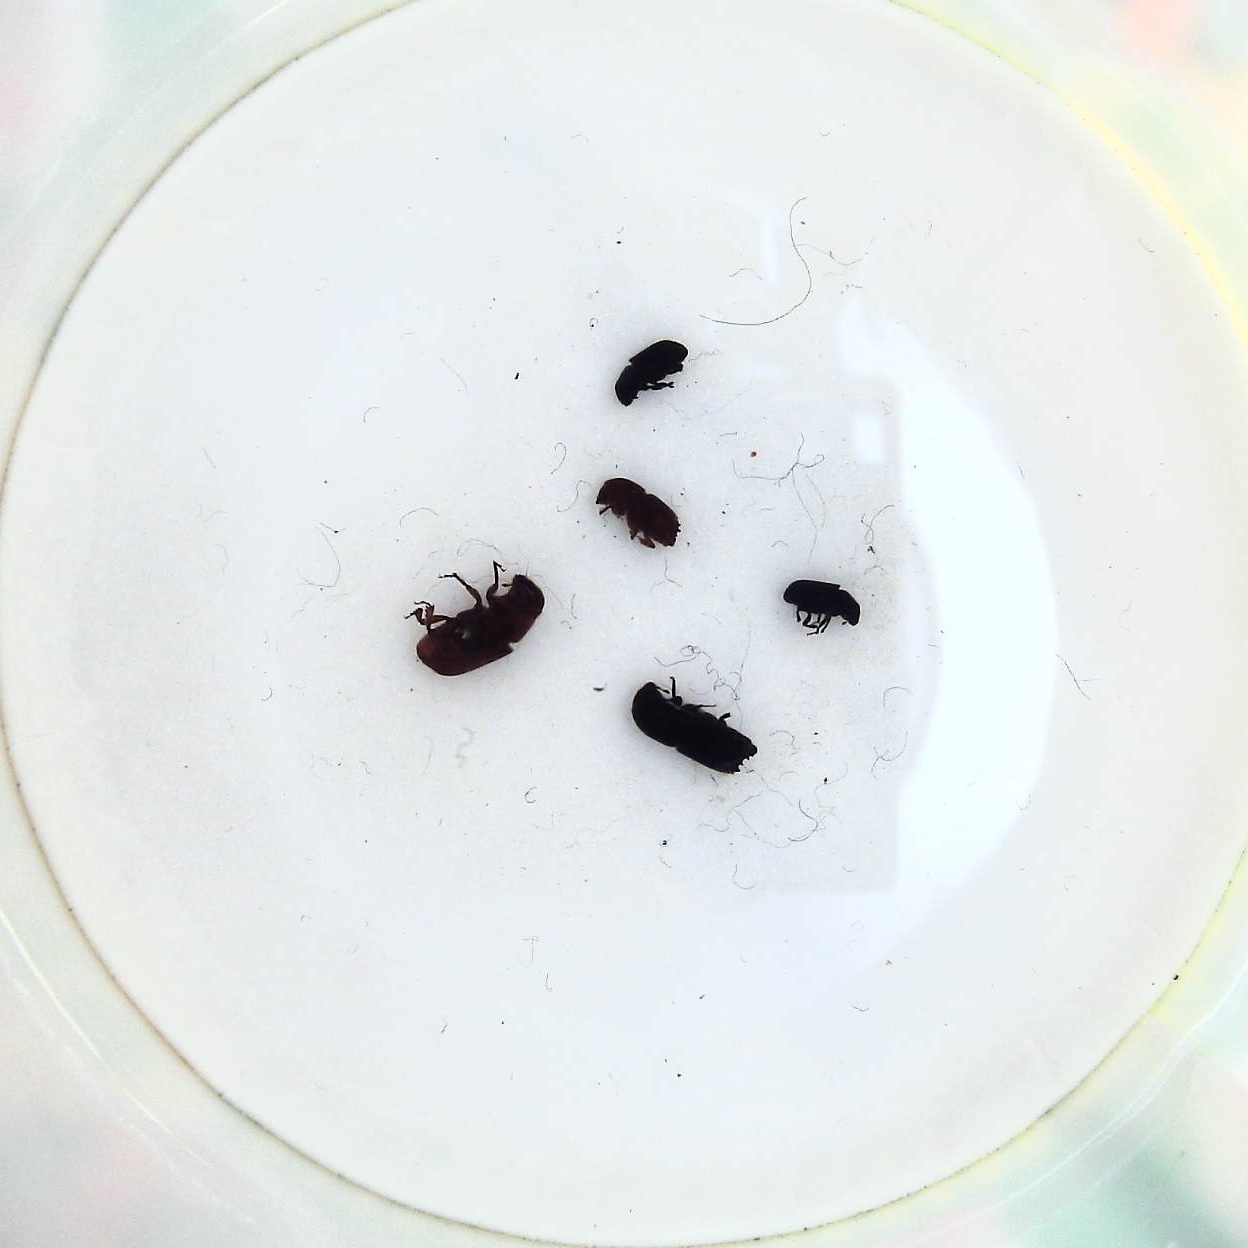Boerner: (629, 674, 768, 779)
Leconte: (407, 552, 546, 683)
armandi: (613, 338, 697, 409)
coleoptera: (775, 571, 869, 640)
linnaeus: (594, 472, 682, 557)
